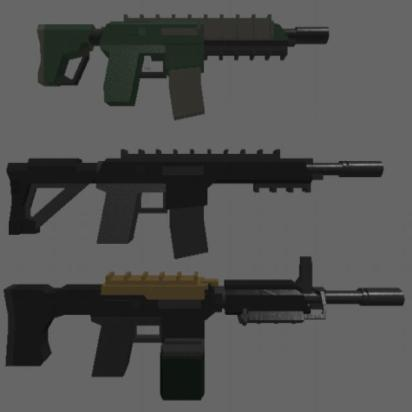Gun: (0, 255, 406, 407), (0, 144, 390, 260), (27, 12, 338, 124)
